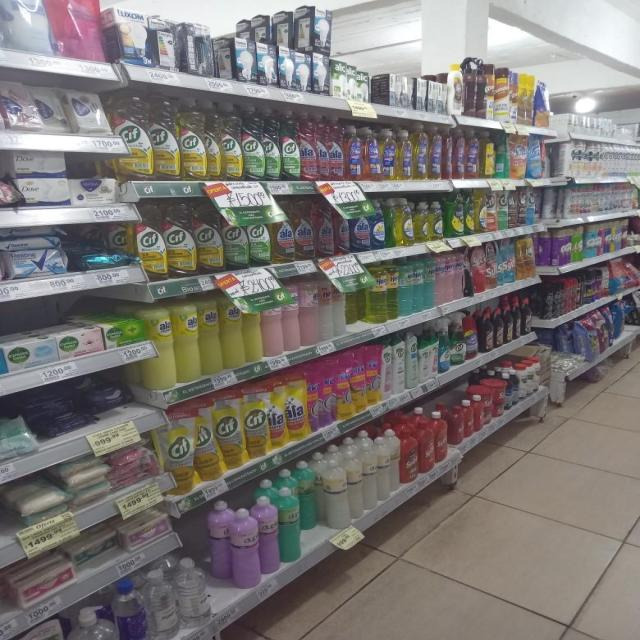ala_conc_amarillo: (272, 200, 294, 263)
ala_conc_azul: (350, 200, 370, 252)
ala_conc_rojo: (294, 198, 314, 260), (300, 110, 315, 181), (315, 198, 333, 257), (330, 116, 345, 181), (316, 112, 330, 181), (334, 200, 350, 255)
ala_crem_amarillo: (144, 304, 174, 391), (175, 298, 199, 384), (199, 295, 221, 377), (221, 292, 243, 370), (244, 292, 262, 364)
ala_crem_rosado: (262, 288, 283, 358), (300, 275, 319, 347), (283, 283, 300, 352), (321, 275, 334, 342)
ala_sachet_amarillo: (287, 372, 307, 442), (269, 378, 286, 449)
cif_conc_bot_amarilla: (117, 90, 150, 181), (151, 94, 178, 180), (179, 97, 206, 181), (135, 204, 164, 280), (166, 202, 195, 277), (196, 202, 222, 274), (221, 101, 242, 180), (206, 99, 221, 180)
cif_conc_botella_verde: (242, 103, 263, 181), (224, 203, 248, 270), (248, 204, 270, 266), (263, 106, 280, 181), (281, 108, 298, 181)
cif_conc_sachet_amarillo: (162, 411, 195, 494), (217, 391, 243, 472), (244, 386, 268, 458), (196, 404, 218, 482)
drive: (336, 354, 352, 420), (366, 345, 382, 408), (308, 364, 322, 434), (322, 359, 336, 429), (352, 349, 367, 413)
esencial: (231, 505, 260, 589), (322, 449, 348, 529), (362, 431, 378, 514)
magistral_con_amarillo: (393, 198, 414, 246), (414, 201, 429, 243), (429, 200, 444, 240)
magistral_con_azul: (371, 200, 386, 250)
zorro: (363, 126, 380, 180), (414, 124, 428, 180), (381, 128, 396, 180), (398, 128, 413, 180), (429, 125, 442, 180)
